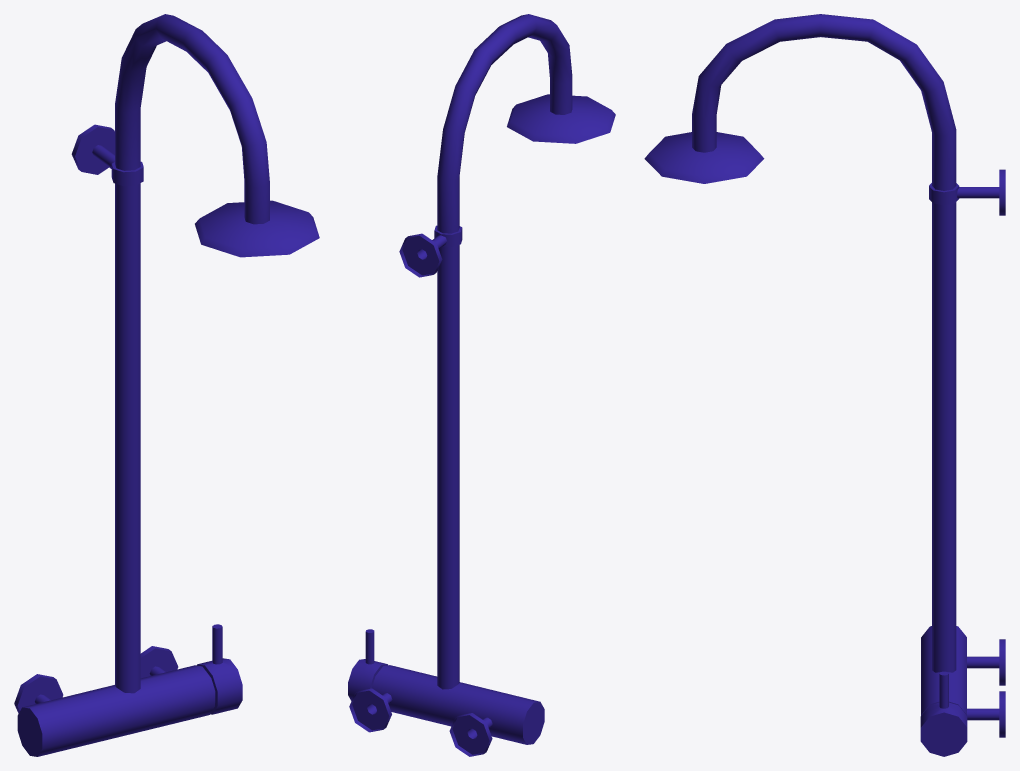
Rendered from Shower.fbx.
3 views of the same model, side by side, from view 1: azimuth 30°, elevation 25°; view 2: azimuth 150°, elevation 25°; view 3: azimuth 270°, elevation 25° (orthographic). The views are drawn at different scales.
Parts seen in each view (by area): view 1: TheShower; view 2: TheShower; view 3: TheShower.
Part boxes in pixels (x1=…): TheShower: x1=14, y1=14, x2=319, y2=756; TheShower: x1=348, y1=14, x2=615, y2=756; TheShower: x1=644, y1=14, x2=1005, y2=756.
Size of the model in its own units: 34.83 by 125 by 58.76.
